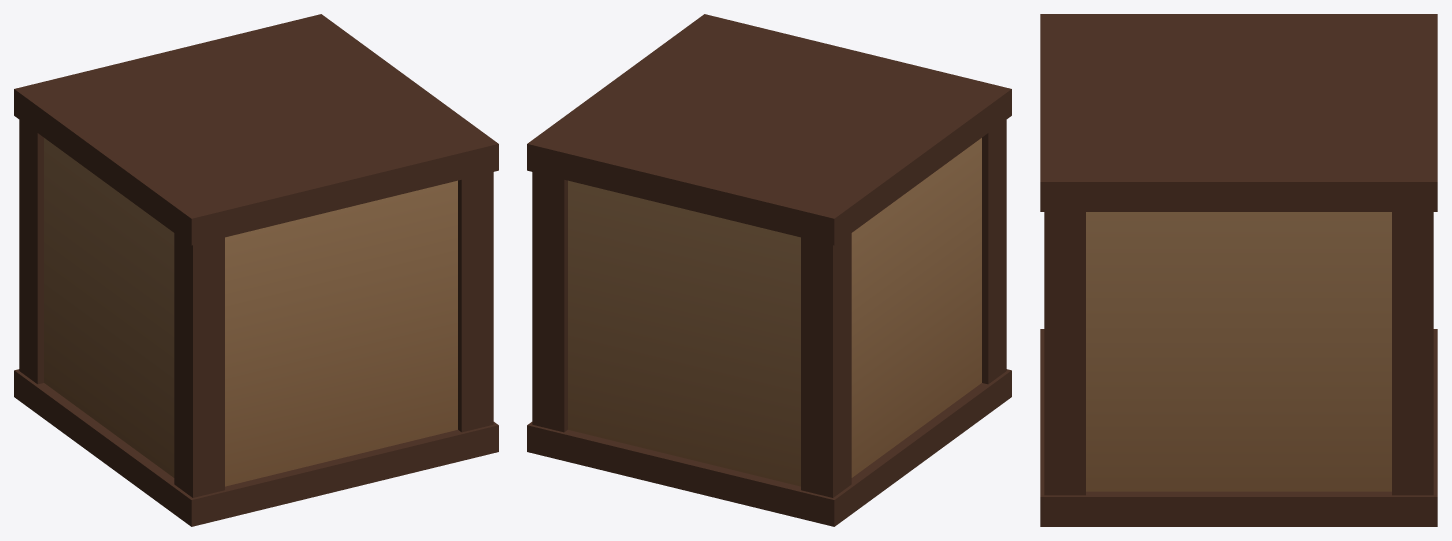
Rendered from crate.glb.
The picture shows the model from 3 angles, left to right: view 1: azimuth 30°, elevation 25°; view 2: azimuth 150°, elevation 25°; view 3: azimuth 270°, elevation 25°; orthographic projection. The views are drawn at different scales.
Visible parts, largest first — view 1: crate; view 2: crate; view 3: crate.
Part boxes in pixels (x1=…): crate: x1=14, y1=14, x2=498, y2=526; crate: x1=527, y1=14, x2=1011, y2=526; crate: x1=1040, y1=14, x2=1437, y2=526.
Bounding box in the file's own units: 0.96 × 0.92 × 0.96.
